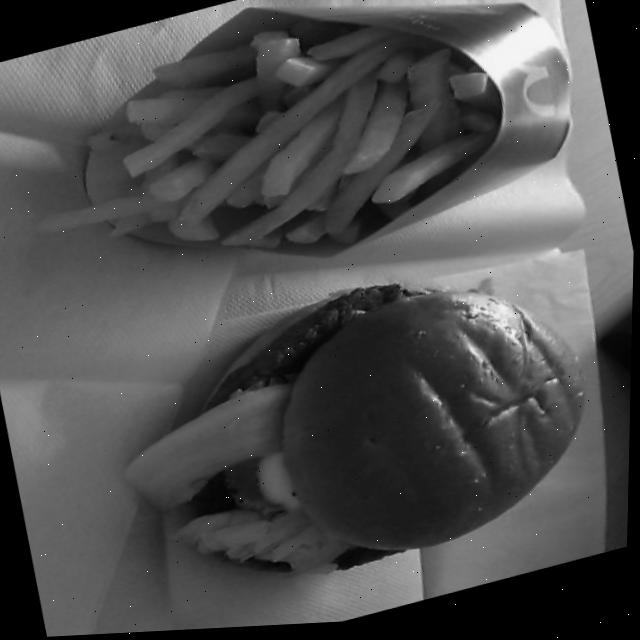汉堡快餐: (88, 225, 625, 636)
炸货点心: (18, 0, 607, 333)
